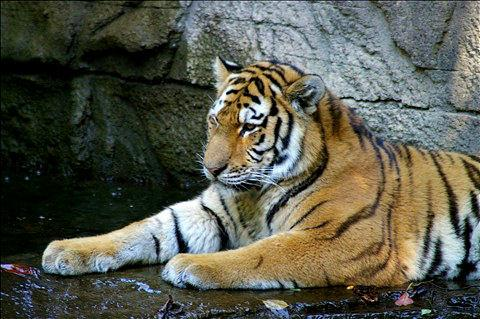tiger: (41, 55, 480, 292)
